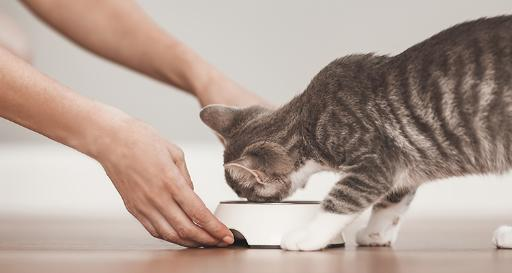cat_eating: (201, 15, 512, 250)
